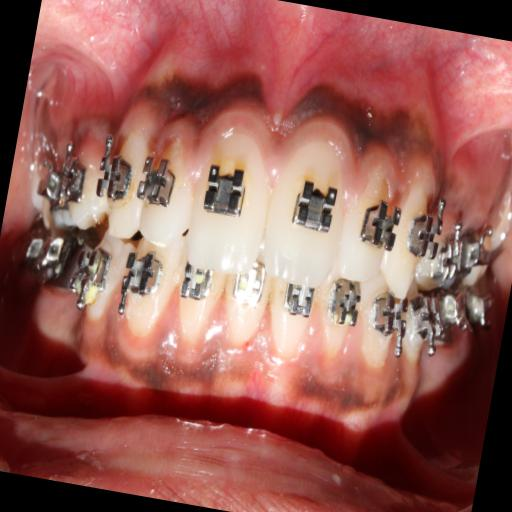correct_brace: (287, 168, 343, 242), (197, 159, 250, 223), (354, 190, 404, 256), (136, 150, 182, 210), (93, 146, 137, 205), (405, 206, 447, 261)
incorrect_brace: (329, 148, 408, 294), (130, 127, 204, 259)
